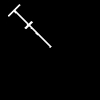double_crochet: (8, 5, 50, 46)
